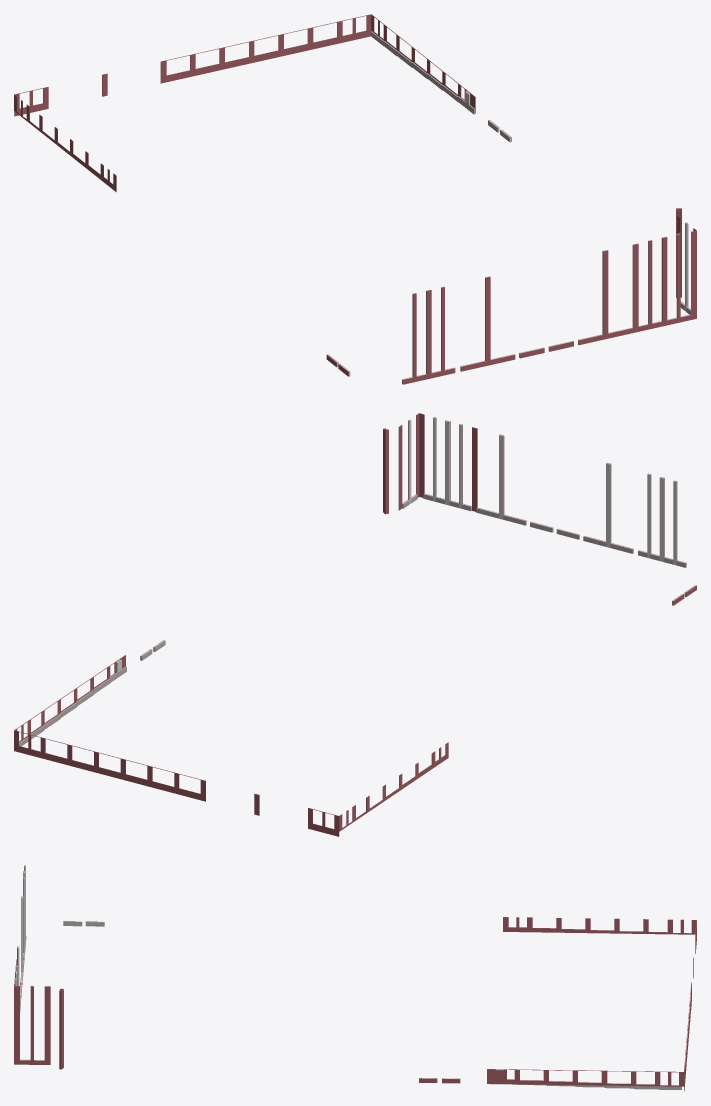
File: 20160125Autodesk_Hospital_Parking Garage_2015_Existing_Garage_-_1st_Level_IfcWallStandardCase.dae
The picture shows the model from 3 angles, top to bottom: view 1: azimuth 30°, elevation 25°; view 2: azimuth 150°, elevation 25°; view 3: azimuth 270°, elevation 25°; orthographic projection. The views are drawn at different scales.
Parts seen in each view (by area): view 1: 2Dllb4ndP5l8WDm214kUMo, 2eHl2OPDr8fRAzLsUTuP3p, 2eHl2OPDr8fRAzLsUTuP0G, 1w9iTi82nBJxMiICwcwbJf, 1w9iTi82nBJxMiICwcwbUz, 1UZXStJtPB4ufcKDZIRIMF; view 2: 2Dllb4ndP5l8WDm214kUMo, 2eHl2OPDr8fRAzLsUTuP3p, 2eHl2OPDr8fRAzLsUTuP0G; view 3: 2eHl2OPDr8fRAzLsUTuP0G, 2eHl2OPDr8fRAzLsUTuP3p, 1KXeovtbP51O93sXQM641w, 14WI8ioFH7xvjrC4ORy_Jl.
Boxes of the visible parts, box(x1,y1,x2,y2) form: 2Dllb4ndP5l8WDm214kUMo: box(160, 14, 371, 83); 2eHl2OPDr8fRAzLsUTuP3p: box(14, 94, 116, 192); 2eHl2OPDr8fRAzLsUTuP0G: box(371, 14, 475, 113); 1w9iTi82nBJxMiICwcwbJf: box(602, 250, 608, 339); 1w9iTi82nBJxMiICwcwbUz: box(661, 236, 667, 326); 1UZXStJtPB4ufcKDZIRIMF: box(632, 243, 638, 332); 2Dllb4ndP5l8WDm214kUMo: box(14, 730, 205, 801); 2eHl2OPDr8fRAzLsUTuP3p: box(339, 742, 448, 831); 2eHl2OPDr8fRAzLsUTuP0G: box(14, 655, 125, 742); 2eHl2OPDr8fRAzLsUTuP0G: box(487, 1069, 683, 1086); 2eHl2OPDr8fRAzLsUTuP3p: box(503, 917, 696, 934); 1KXeovtbP51O93sXQM641w: box(44, 986, 50, 1064); 14WI8ioFH7xvjrC4ORy_Jl: box(14, 986, 19, 1064).
Bounding box in the file's own units: 72.1 × 129 × 17.33.
